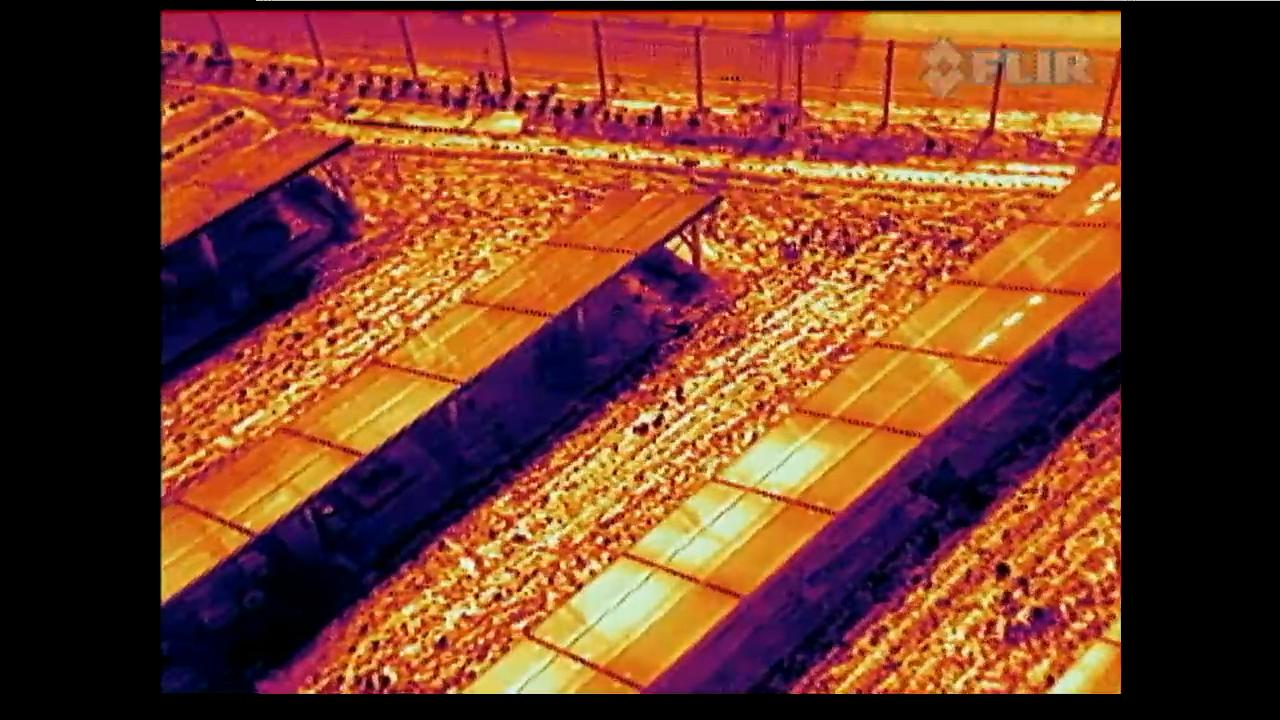hotspot: (873, 279, 1088, 366)
